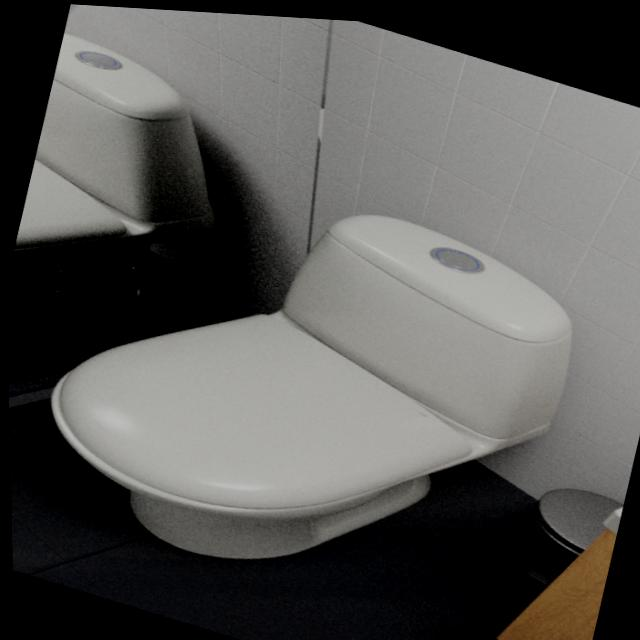toilet: (17, 123, 596, 640)
